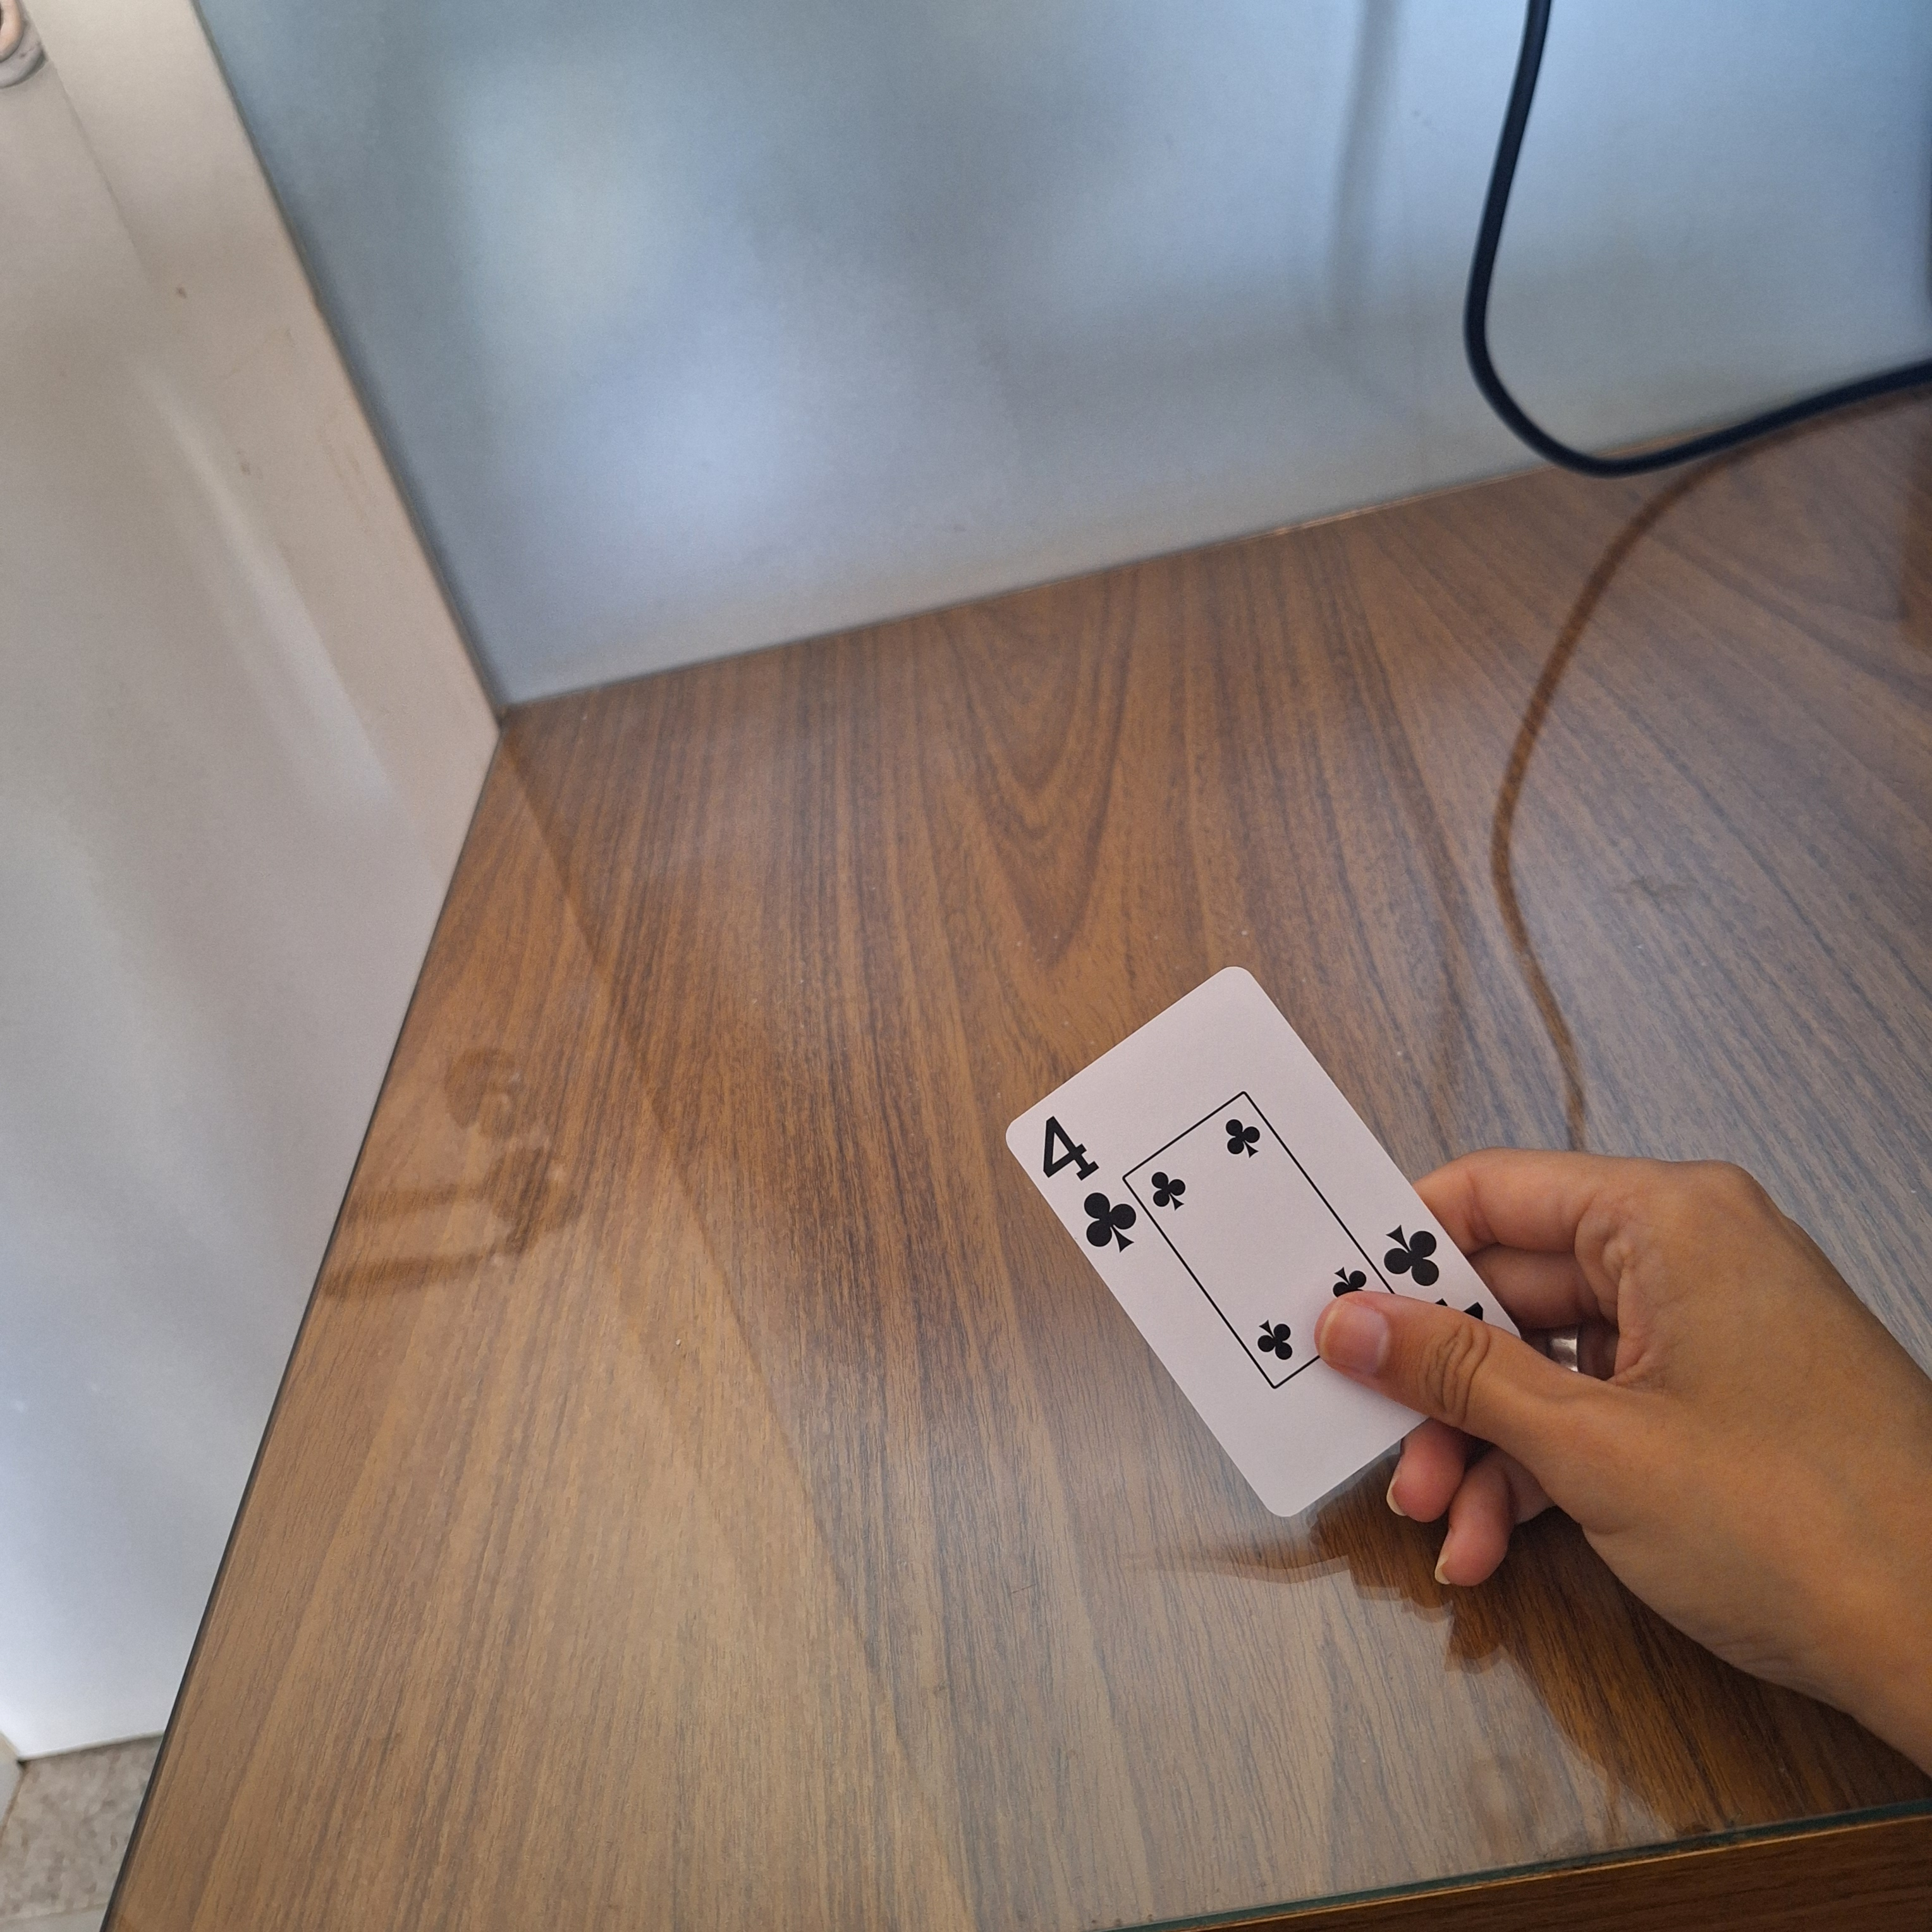4P: (1031, 1106, 1141, 1256)
